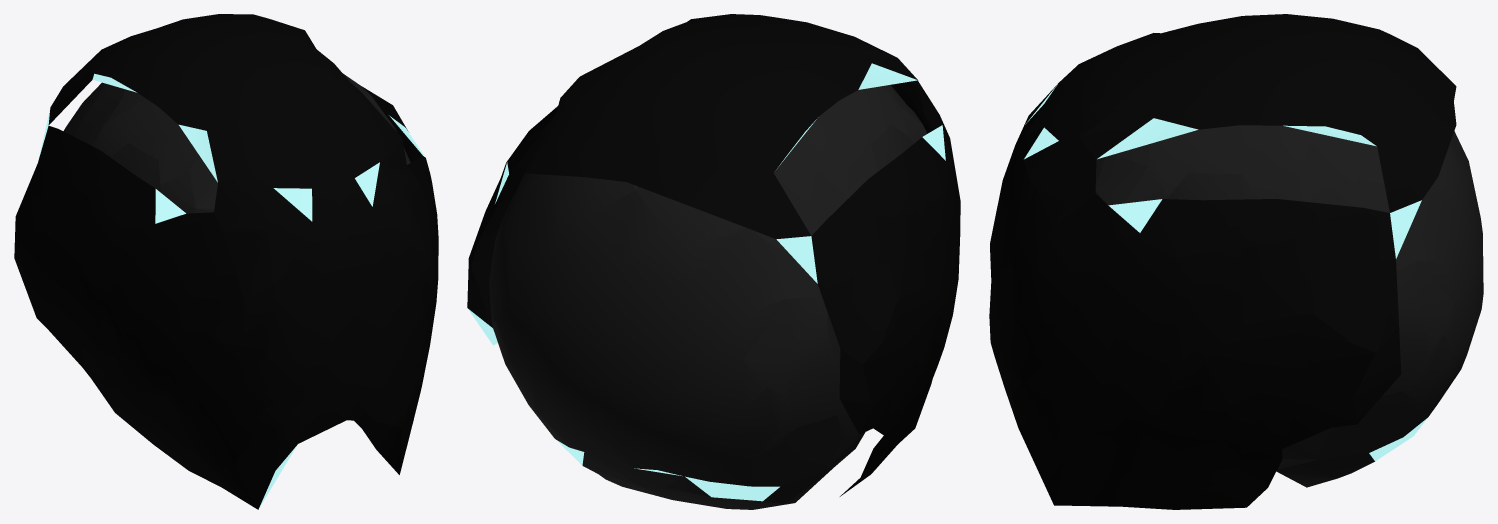
The model's file is _IronMan_Part_armorHEAD.fbx.
The picture shows the model from 3 angles, left to right: view 1: azimuth 30°, elevation 25°; view 2: azimuth 150°, elevation 25°; view 3: azimuth 270°, elevation 25°; orthographic projection. The views are drawn at different scales.
Visible parts, largest first — view 1: _IronMan_Part_armorHEAD; view 2: _IronMan_Part_armorHEAD; view 3: _IronMan_Part_armorHEAD.
Boxes of the visible parts, box(x1,y1,x2,y2) form: _IronMan_Part_armorHEAD: box(14, 14, 438, 509); _IronMan_Part_armorHEAD: box(467, 14, 960, 509); _IronMan_Part_armorHEAD: box(989, 14, 1483, 509).
Size of the model in its own units: 0.00498 by 0.0052 by 0.00544.
